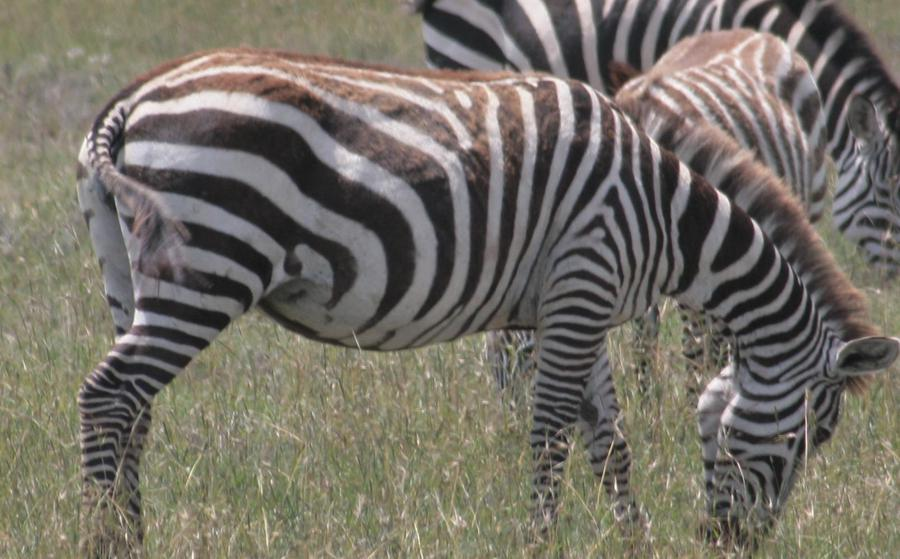zebra_plains: (116, 27, 666, 372)
